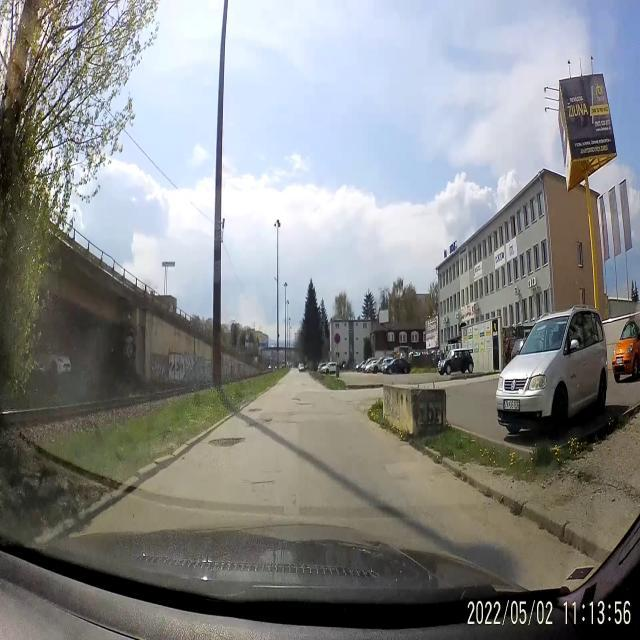Pothole: (207, 434, 244, 456), (248, 476, 274, 489), (248, 418, 258, 431), (262, 416, 274, 424), (290, 396, 302, 403), (298, 402, 312, 408)
